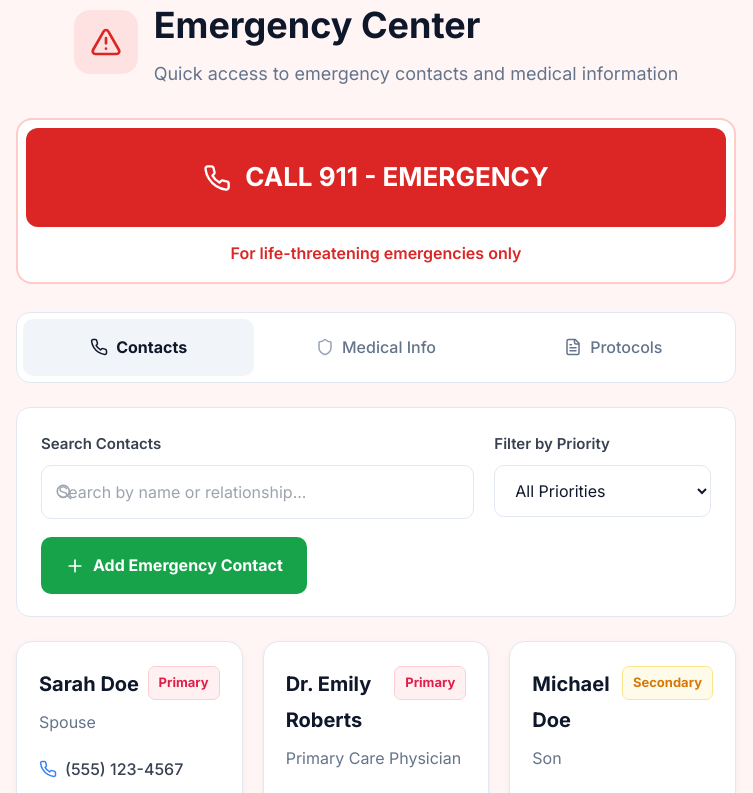
Scenario: EmergencyPage › switches to medical info tab
Step 1. Click the button "Medical Info" → (376, 347), box [260,319,492,376]
(page scrolled)
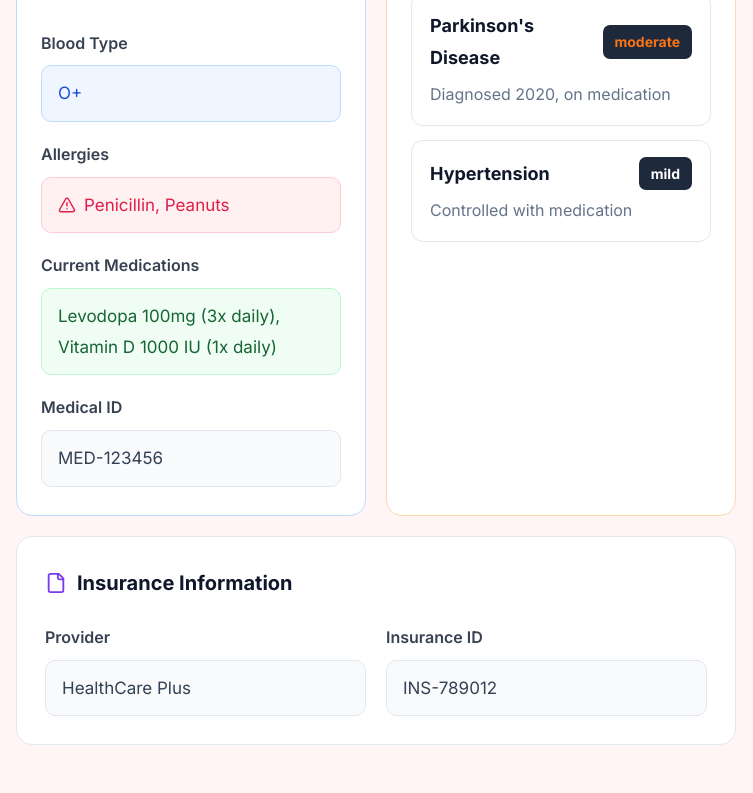
Now the text "Insurance Information" is shown, box [77,565,292,601]
